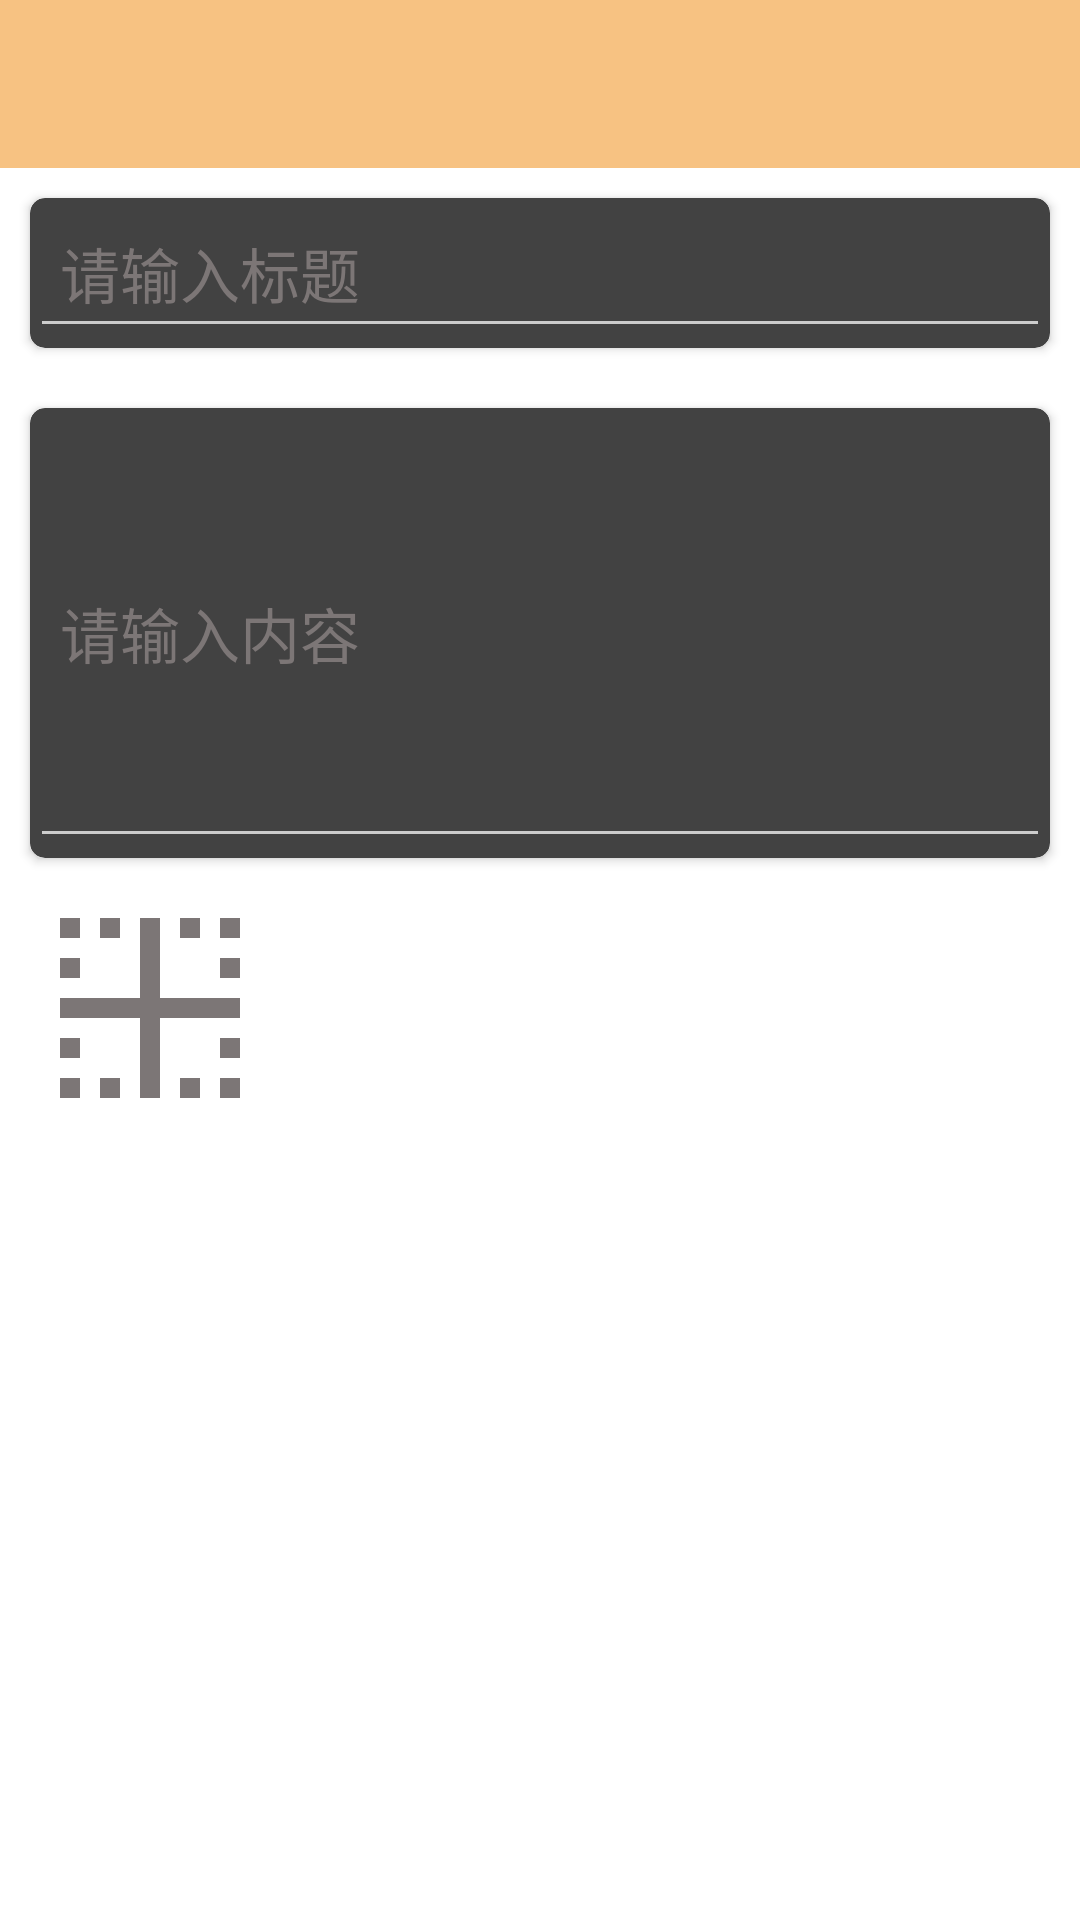

Locate icon controls on the screen. Image size 1080 x 1920, boxes as detection(x1, y1, x2, y2).
border inner: detection(60, 918, 240, 1098)
